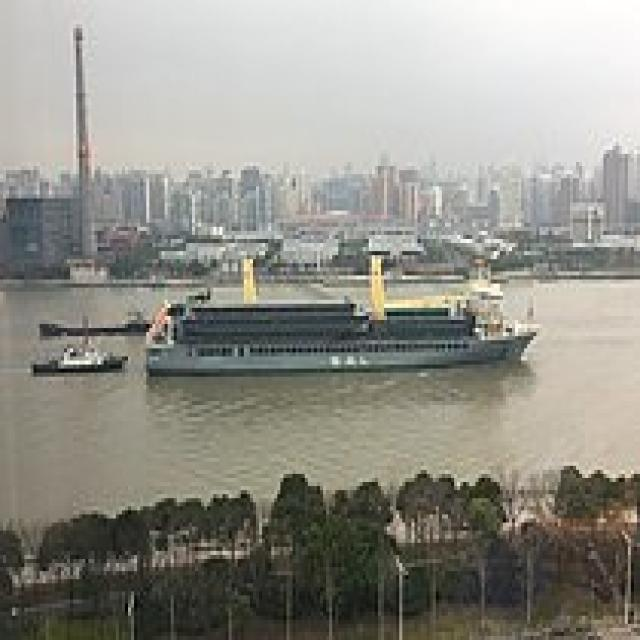Ship: (135, 276, 547, 378)
